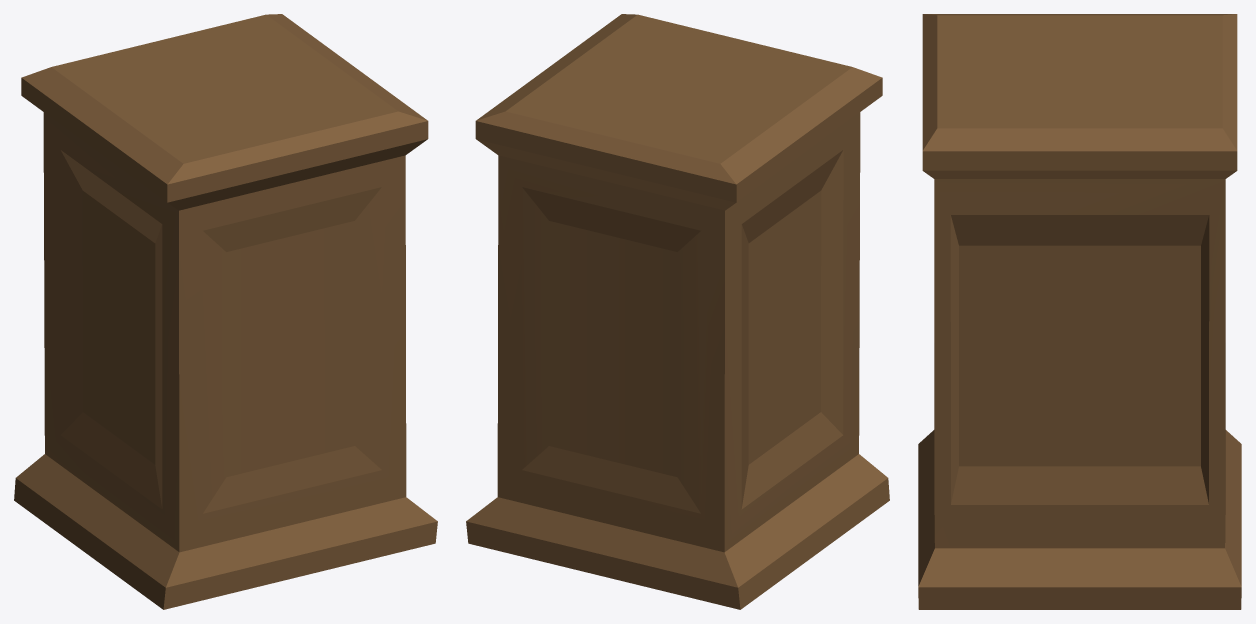
File: small display box.fbx
3 renders of one model, left to right at view 1: azimuth 30°, elevation 25°; view 2: azimuth 150°, elevation 25°; view 3: azimuth 270°, elevation 25°, orthographic. The views are drawn at different scales.
Parts seen in each view (by area): view 1: pCube85; view 2: pCube85; view 3: pCube85.
Part boxes in pixels (left/top/right/bottom): pCube85: left=14, top=14, right=437, bottom=609; pCube85: left=466, top=14, right=889, bottom=609; pCube85: left=918, top=14, right=1241, bottom=609.
Bounding box in the file's own units: 1.86 × 2.8 × 1.76.
